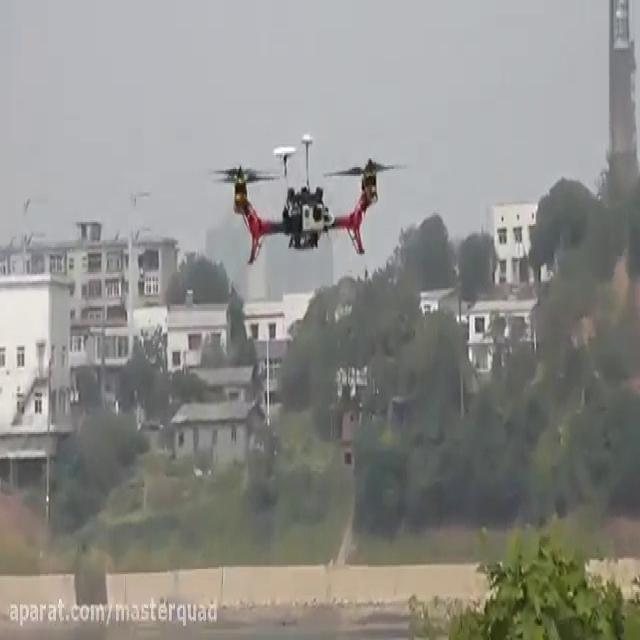drone: (206, 132, 411, 270)
